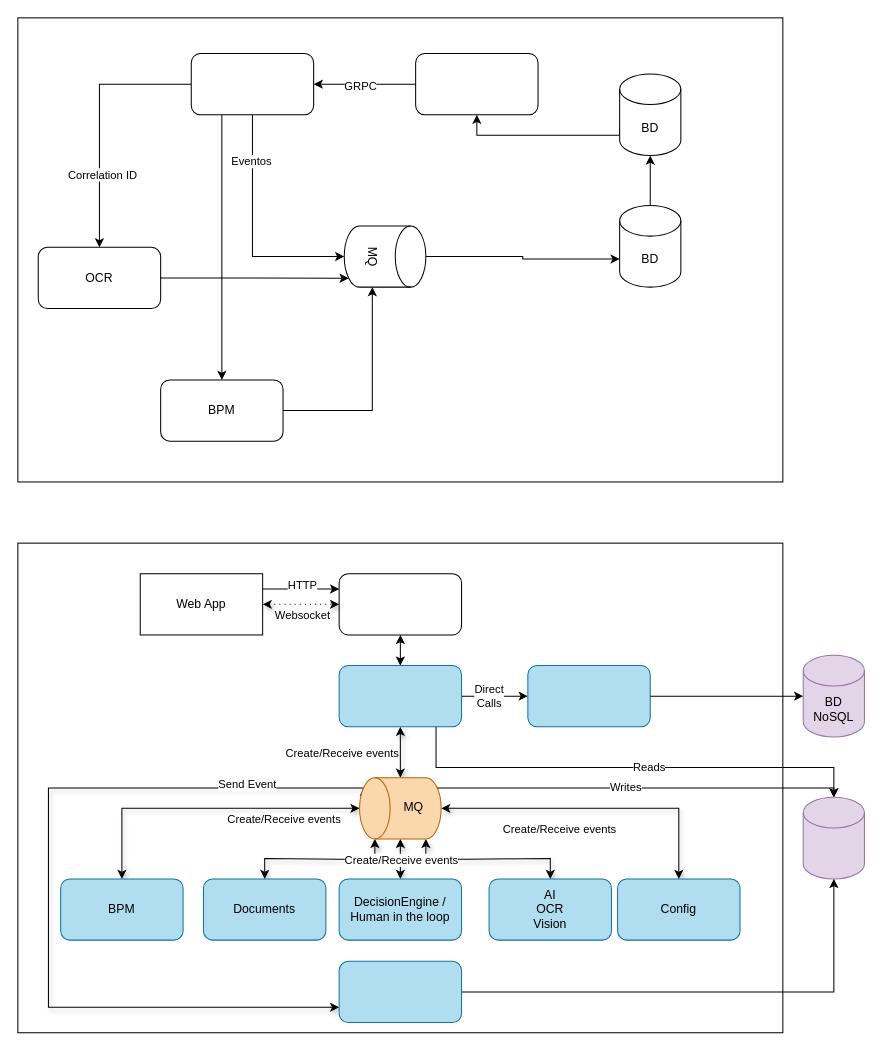
This 882x1051 diagram has some shape labels left out. The shapes that lost their labels are listed below. From the top down, each one's centre as x and y in pixels, then its label:
At point 252,84: "BFF Orquestador".
At point 476,84: "CONSULTA Estados Configuraciones".
At point 400,604: "BFF Web".
At point 400,696: "Core Orquestador".
At point 588,696: "FlowEngine".
At point 833,837: "BD SQL".
At point 400,991: "Audit".
